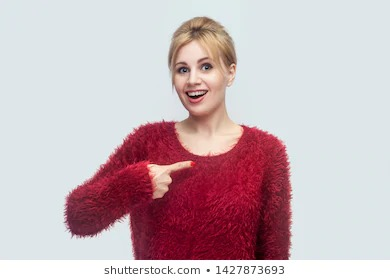C_blouse: (68, 111, 301, 259)
